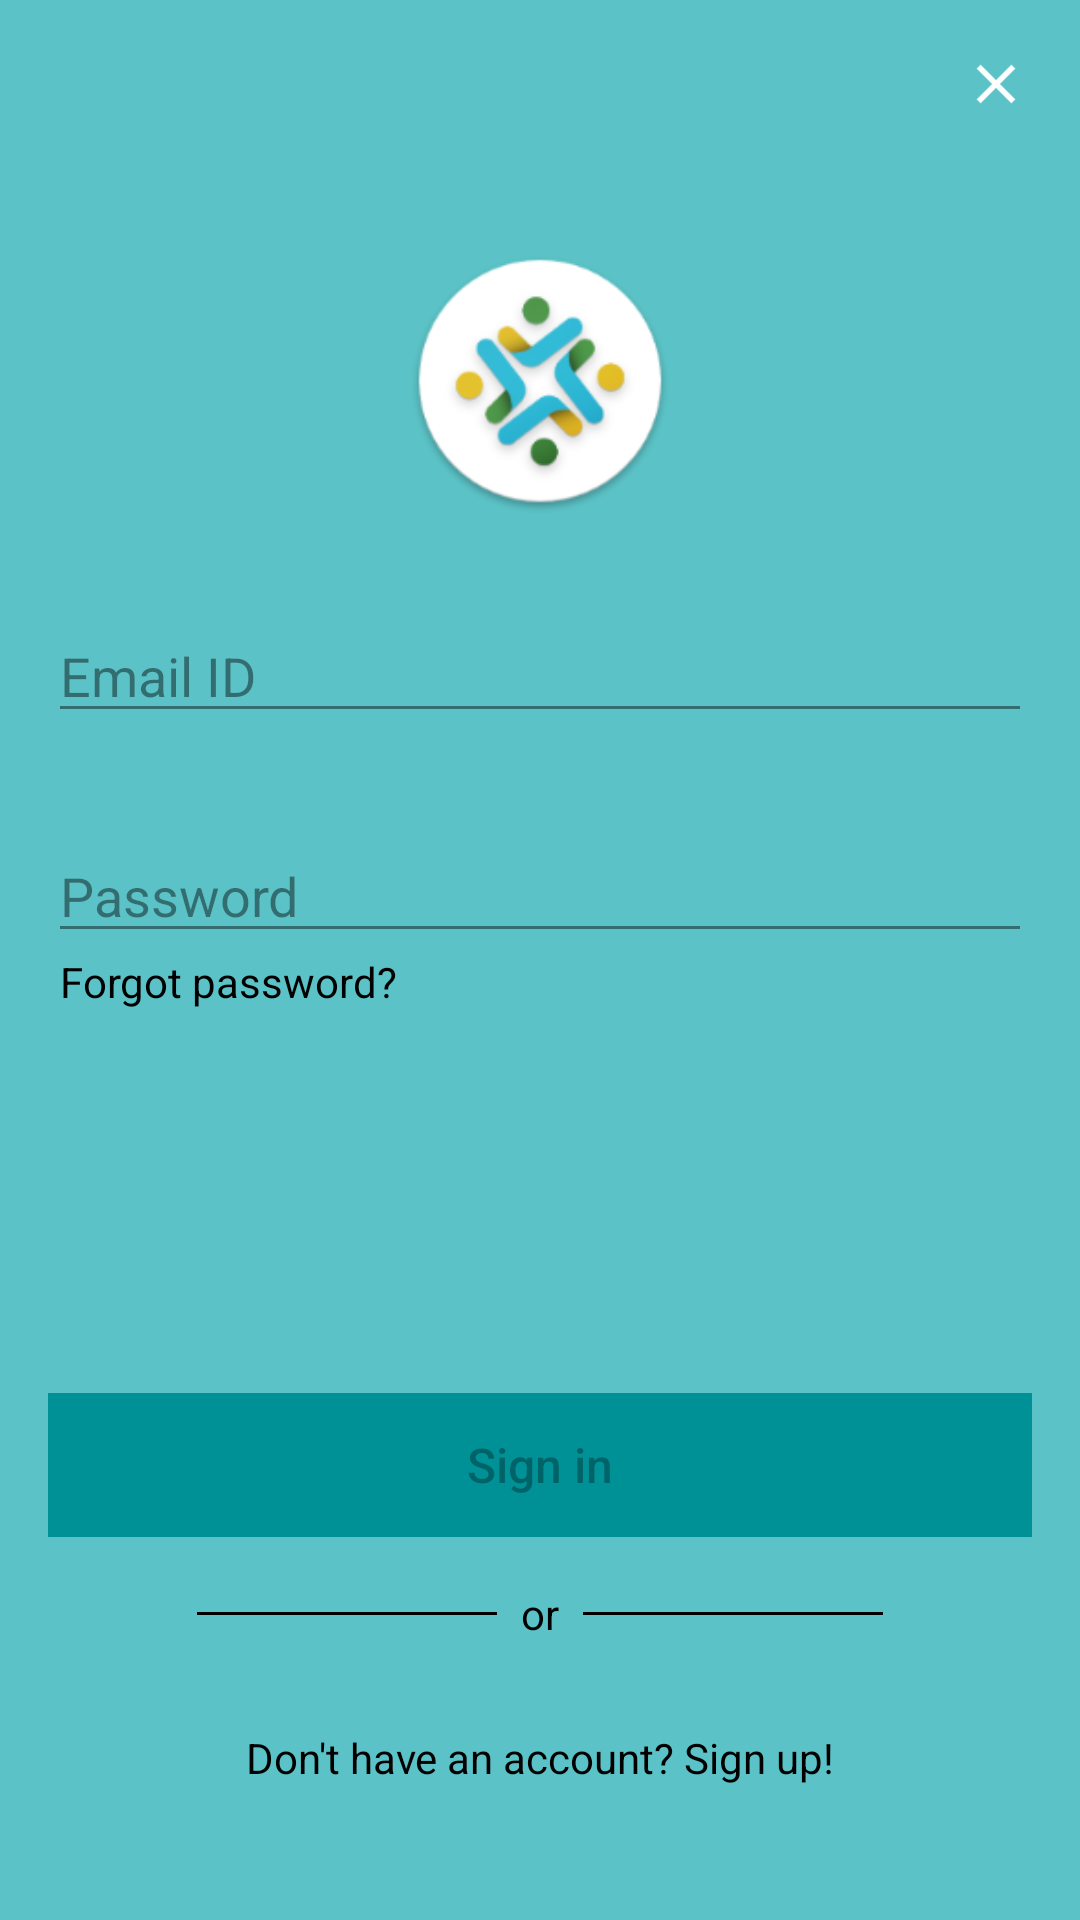

Icon bounding boxes for this 1080px×1920px phone screenshot, format (x1, y1, x2, y2):
close cross: (976, 64, 1016, 104)
